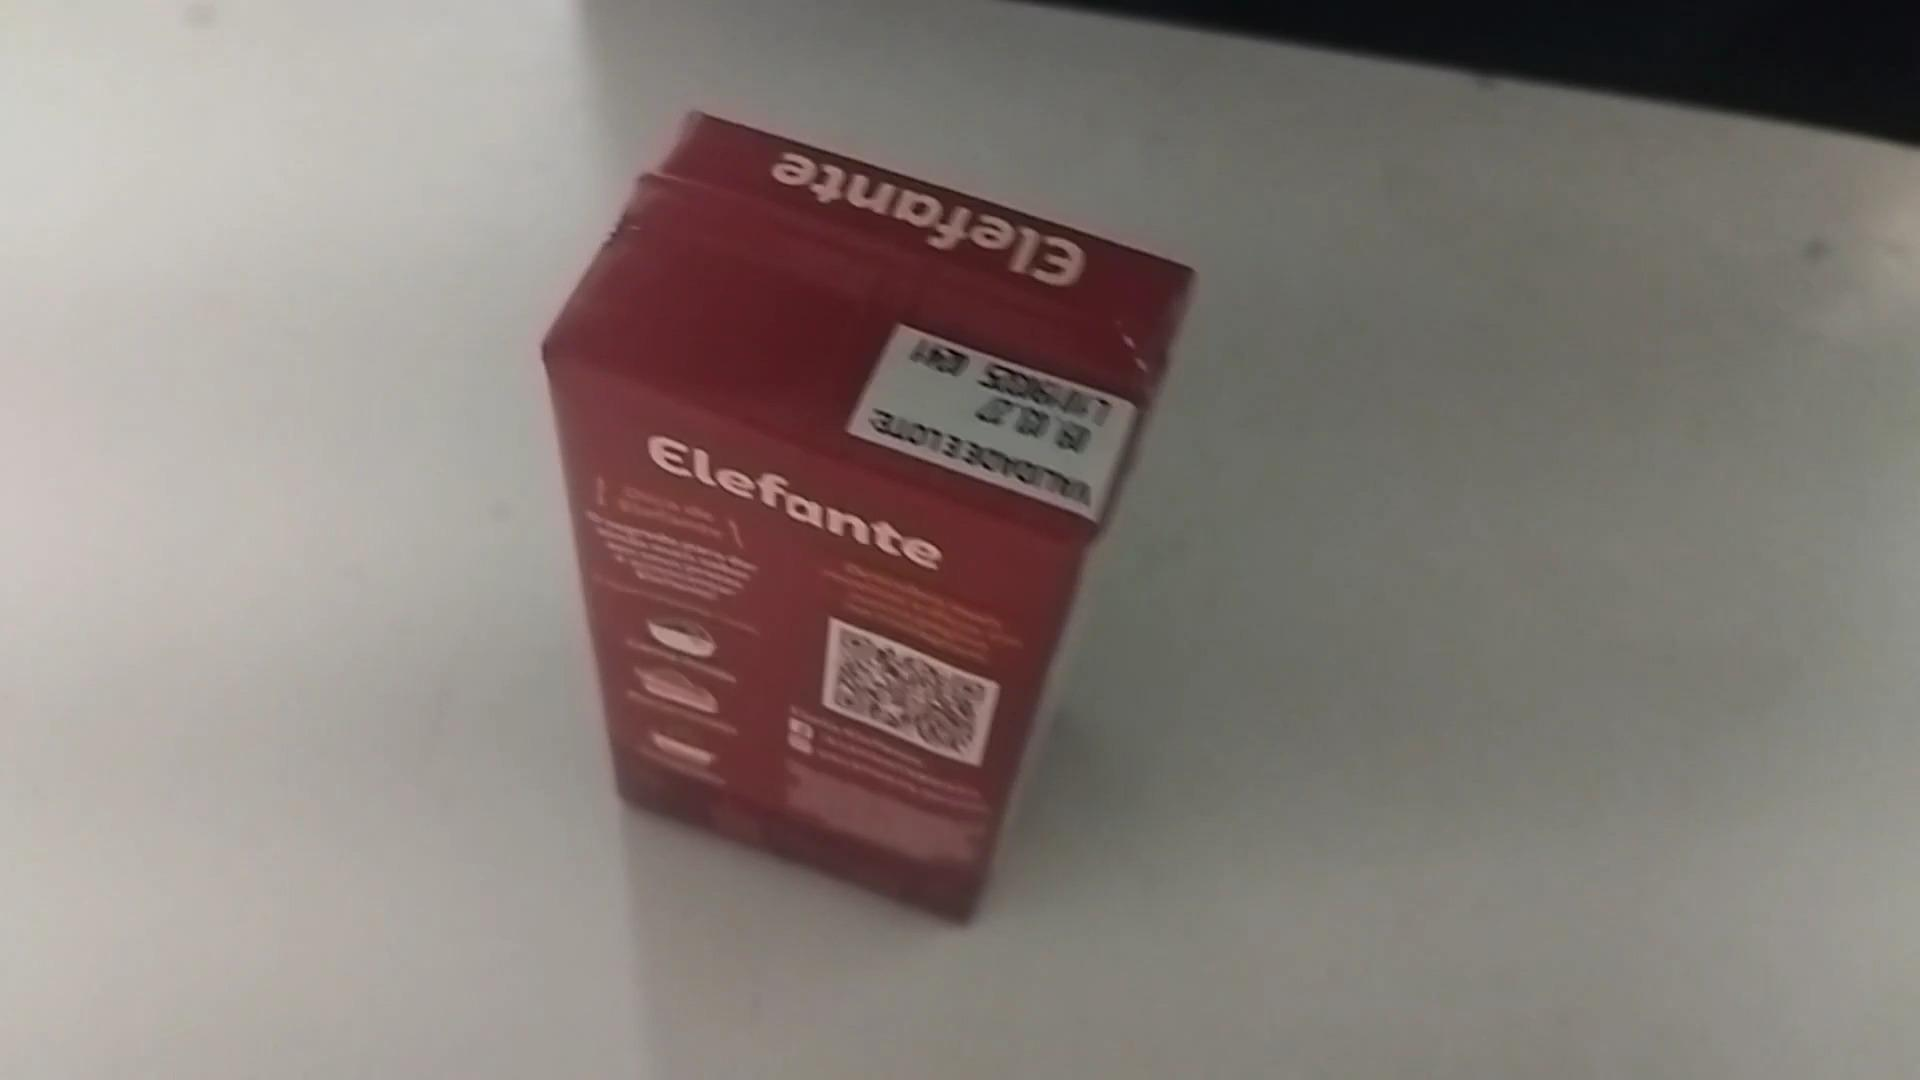tomate: (527, 112, 1209, 931)
